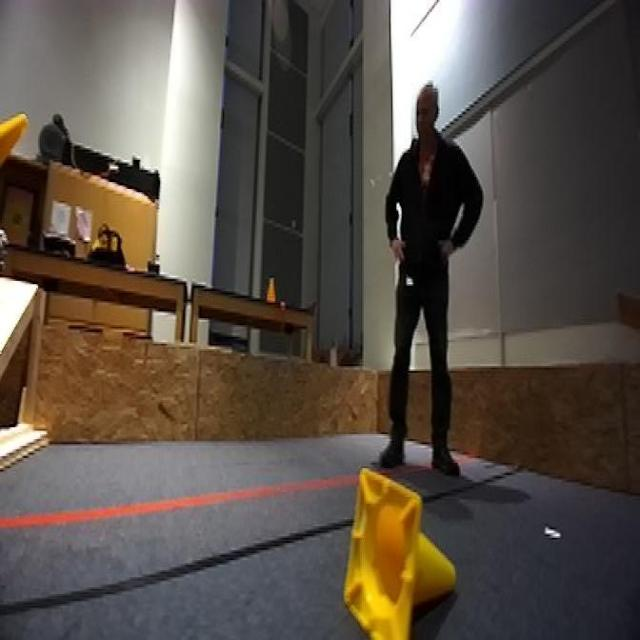frc_cone: (340, 475, 458, 640), (0, 108, 27, 192)
